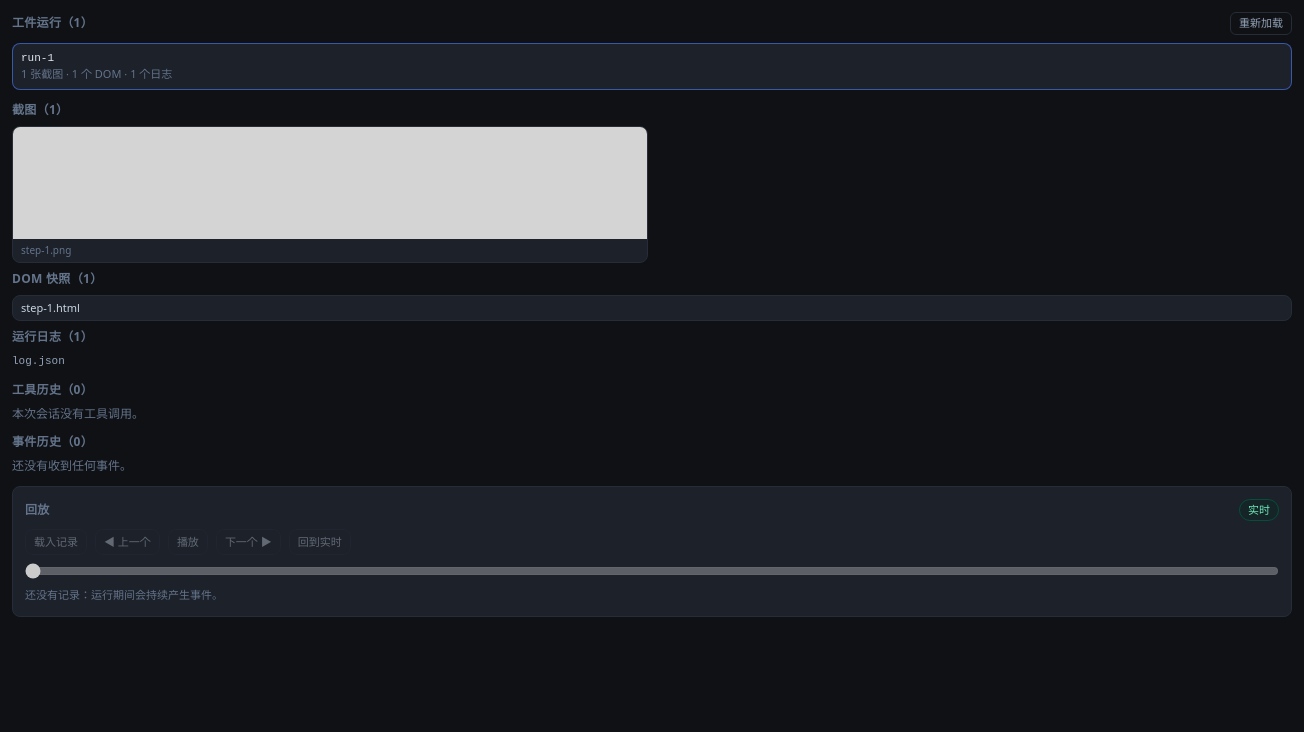
ObservabilityPanel › loads a DOM snapshot's text on demand
This screenshot has width=1304, height=732.
Click the button with test id "dom-snapshot".
click(50, 307)  # box x1=12 y1=294 x2=1292 y2=321
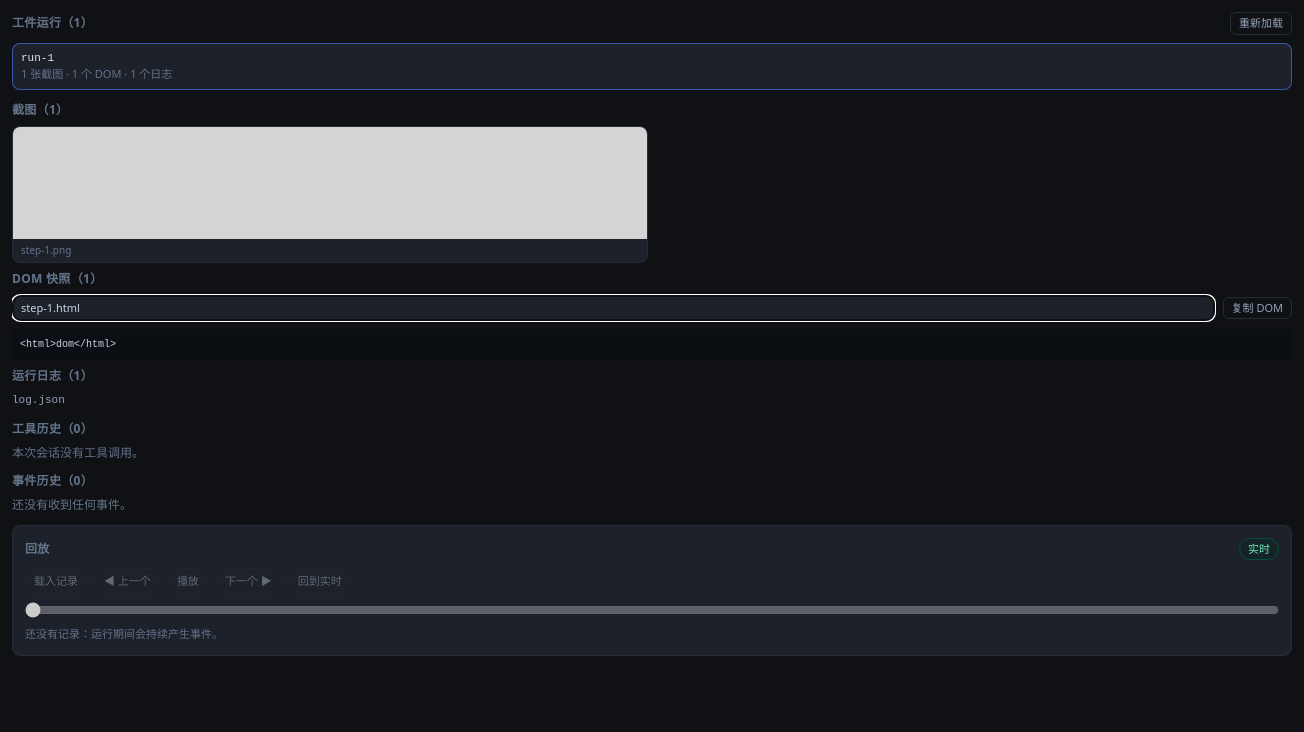
Expected: the text with test id "dom-snapshot-text" reads "<html>dom</html>", x1=20 y1=339 x2=116 y2=350
